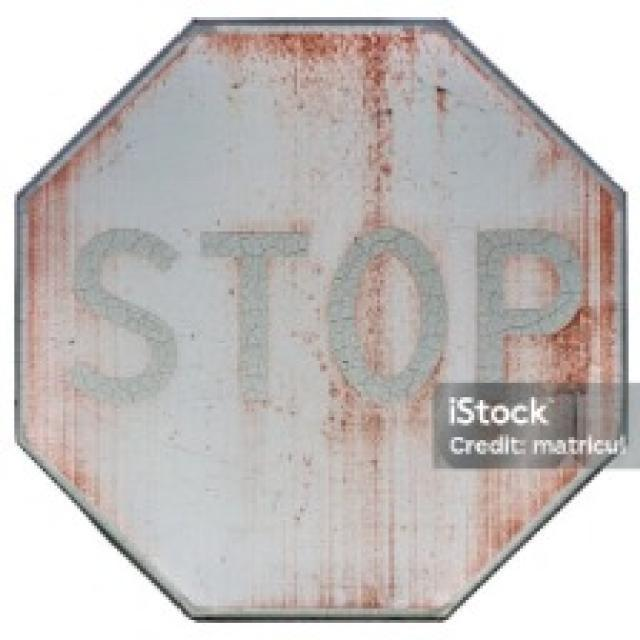stop: (11, 15, 631, 622)
